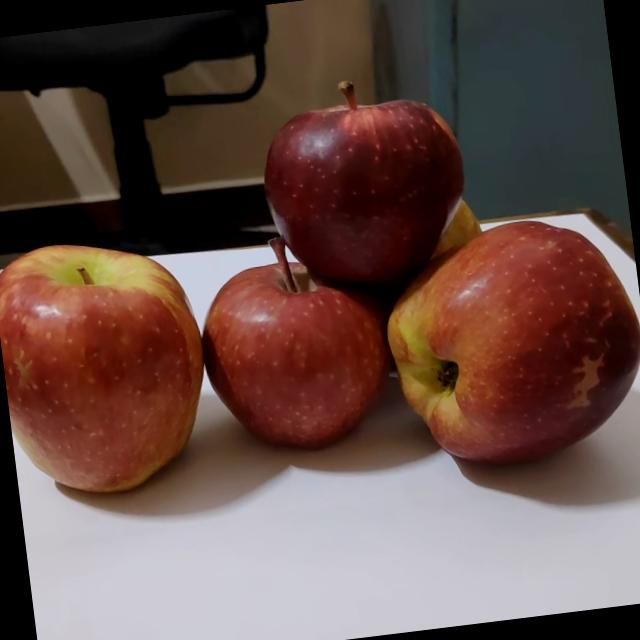apple: (380, 208, 640, 490), (0, 221, 228, 504), (260, 64, 493, 300), (195, 218, 415, 462), (424, 193, 502, 263)
